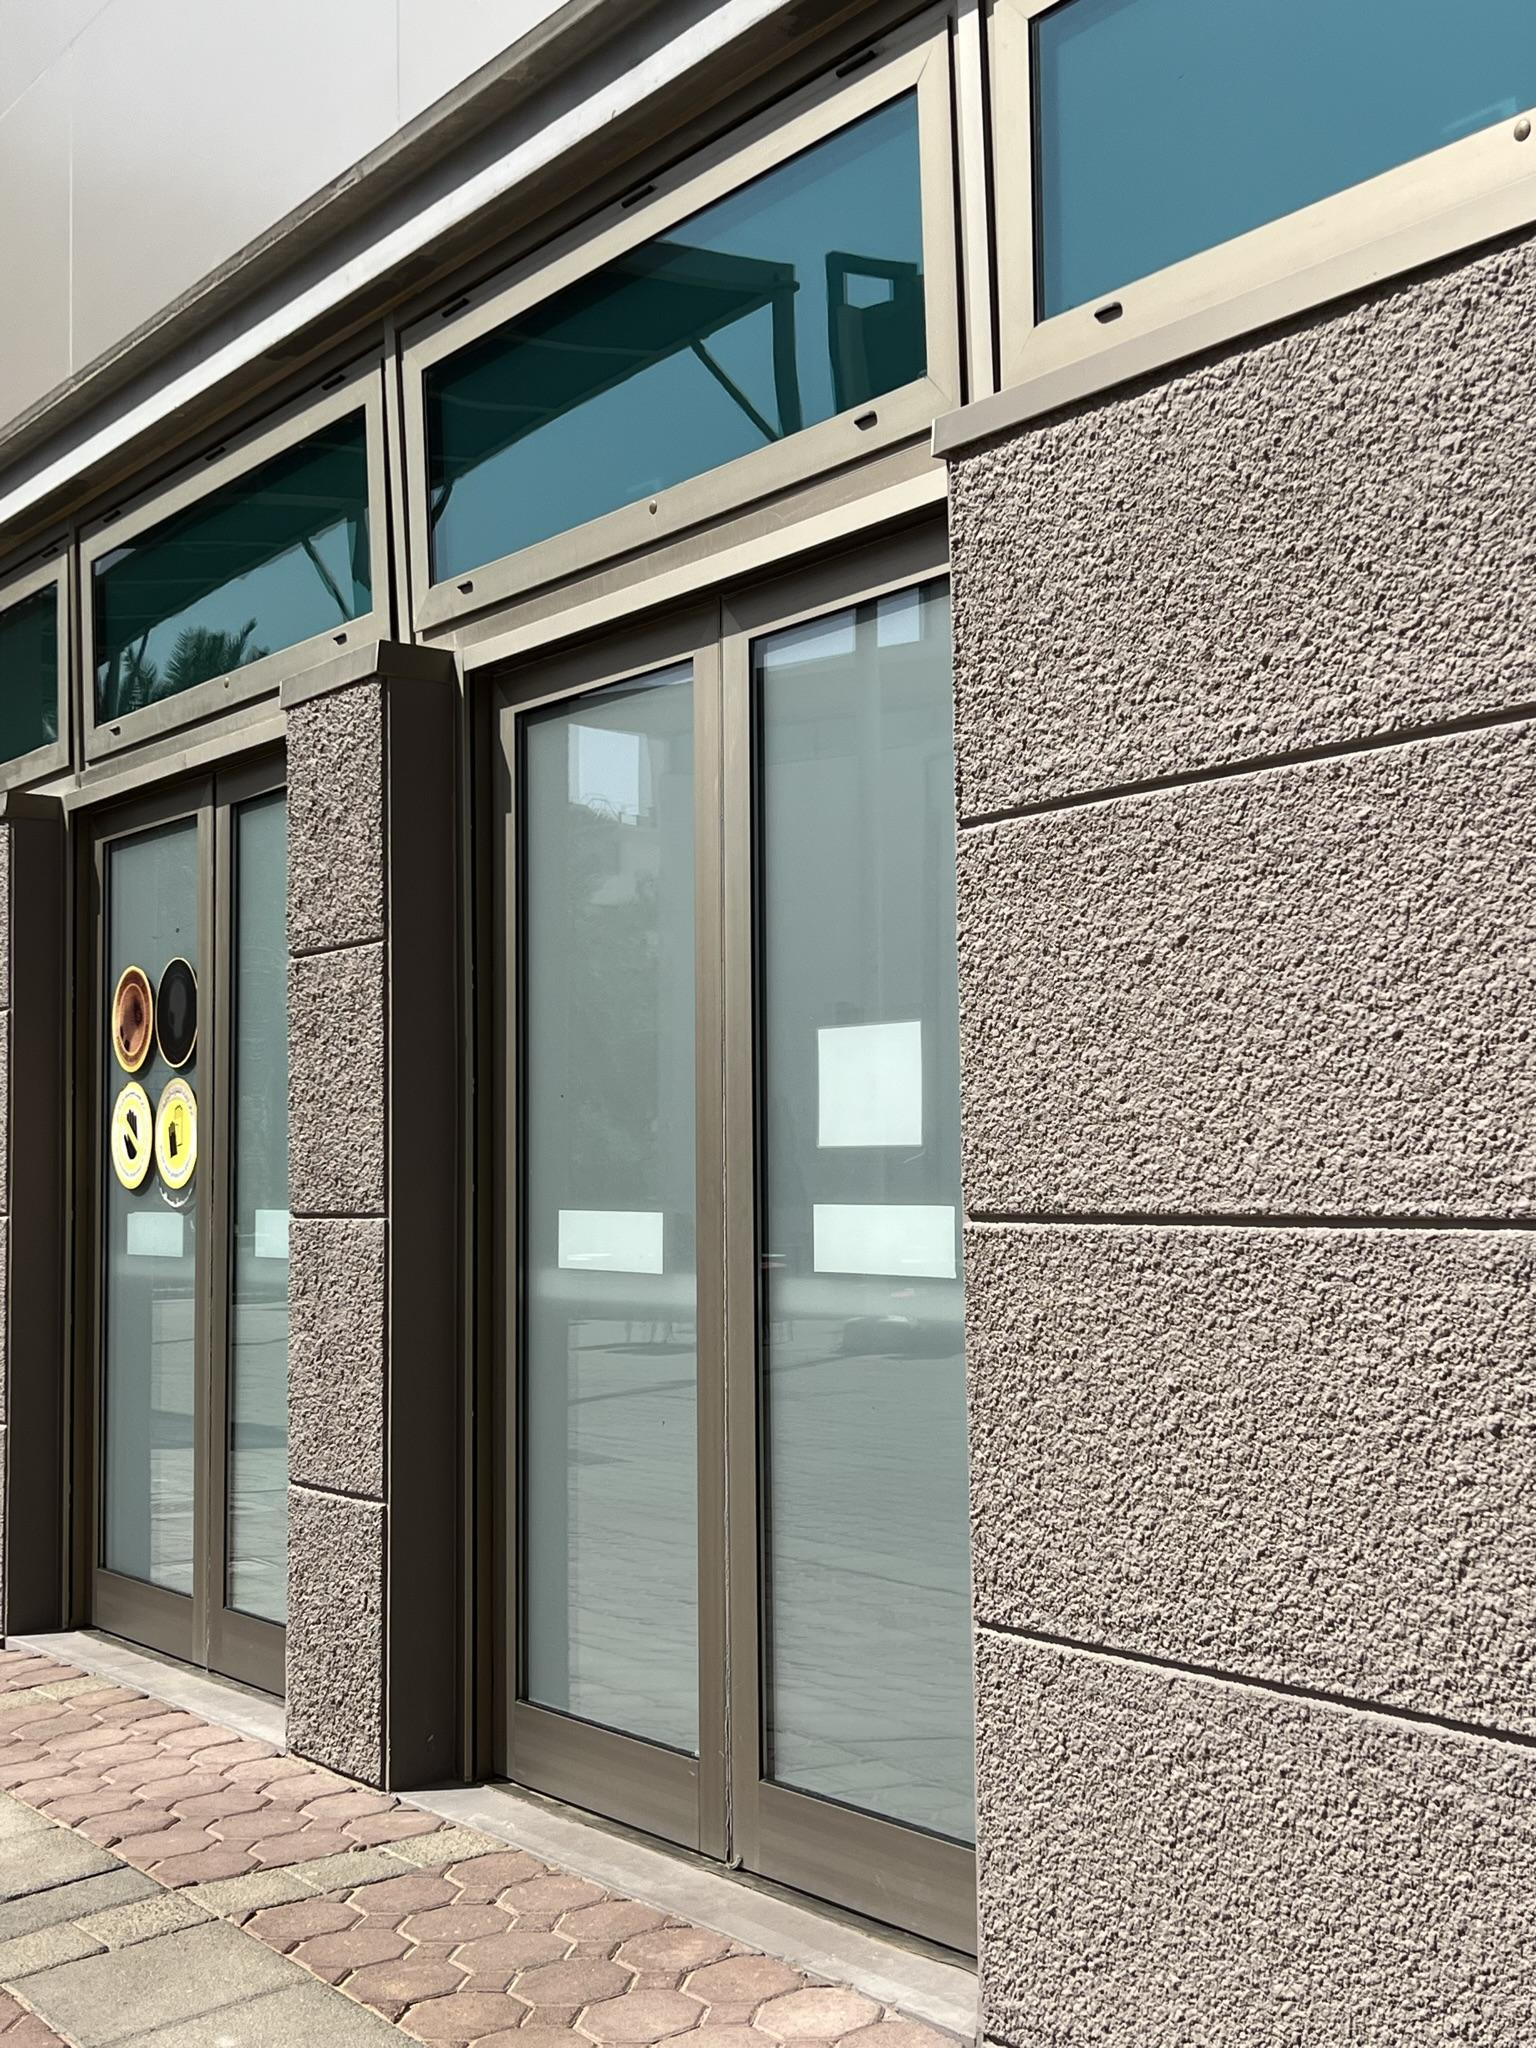door: (728, 561, 973, 1919), (466, 651, 713, 1922), (223, 771, 310, 1687)
